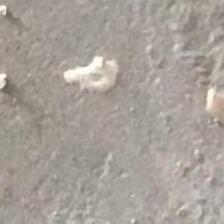Non_Crack: (22, 30, 224, 218)
